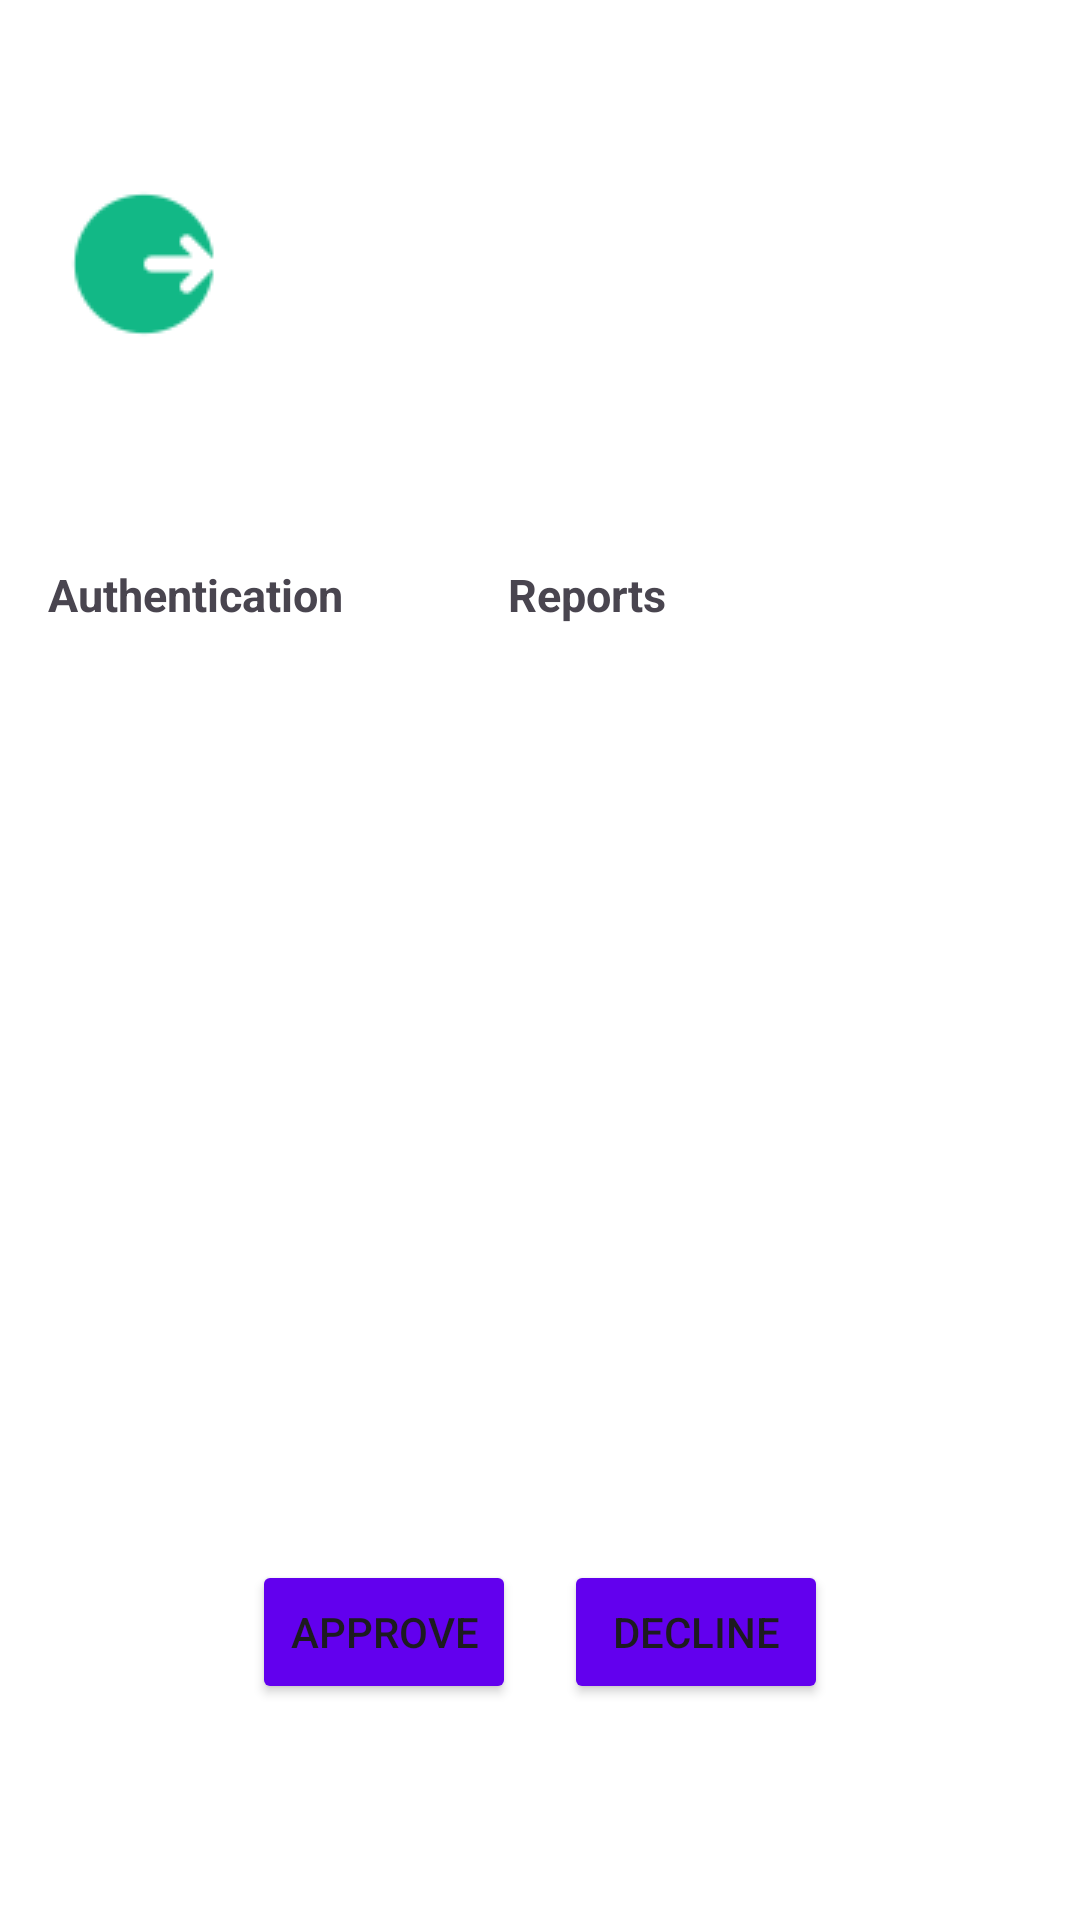

Named icons in this screenshot (1080px x 1920px) and their centers, (x=x, y=y):
signout: (x=144, y=264)
